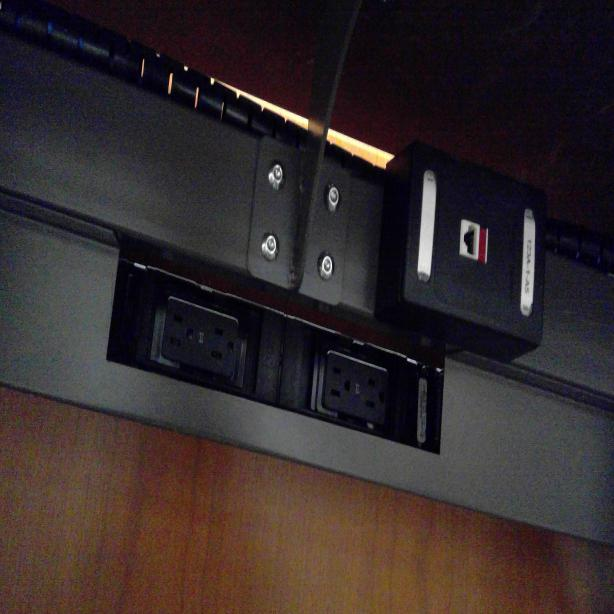typeb: (163, 301, 195, 358), (205, 312, 236, 368), (324, 359, 352, 409), (362, 367, 386, 422)
